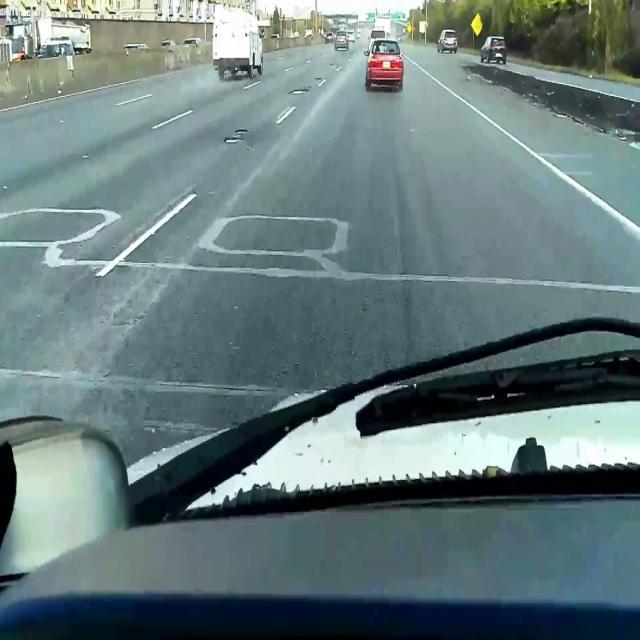Buraco: (222, 136, 245, 144), (287, 89, 311, 96), (233, 128, 250, 136)
